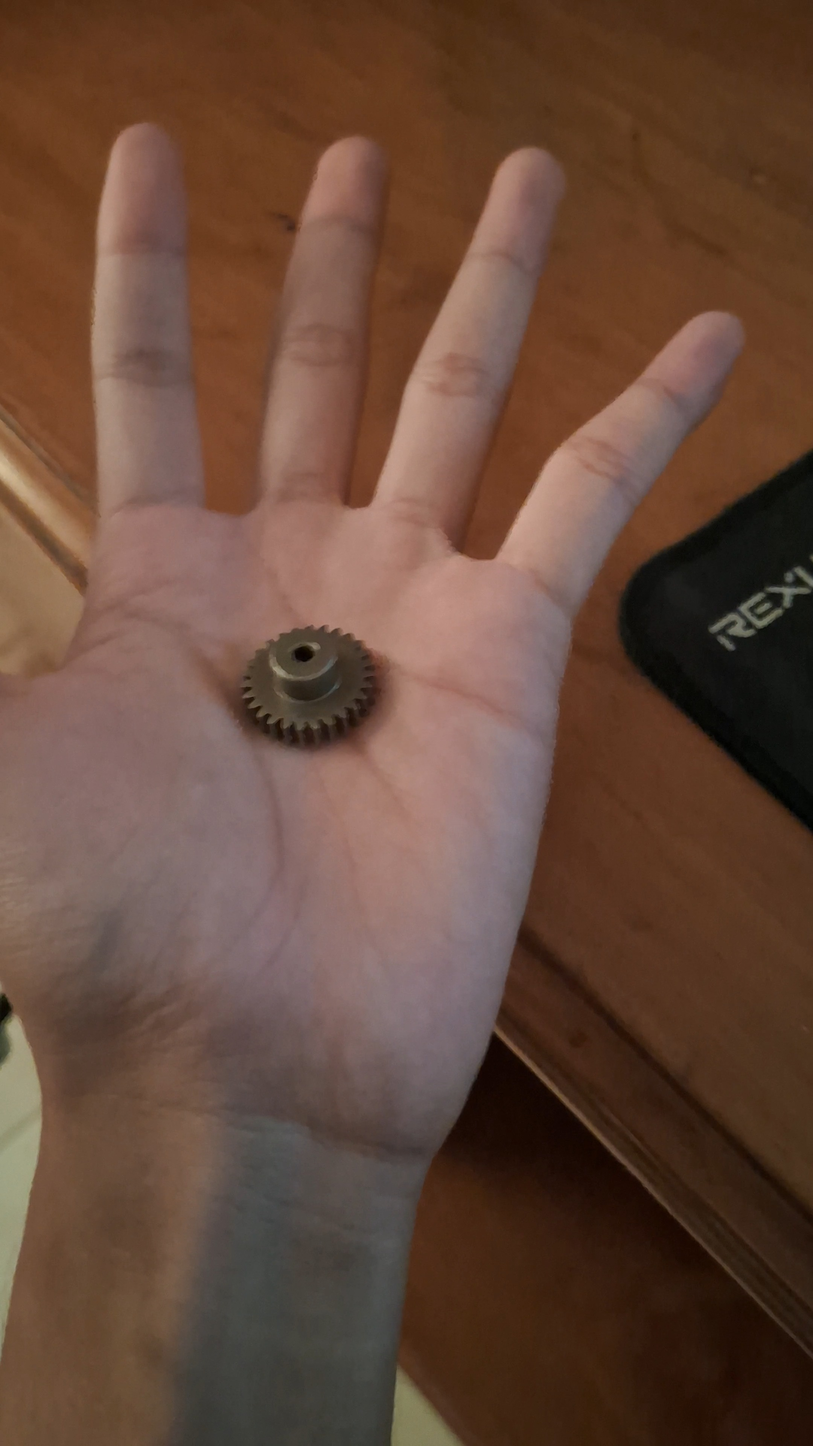spur gear: (243, 627, 376, 746)
